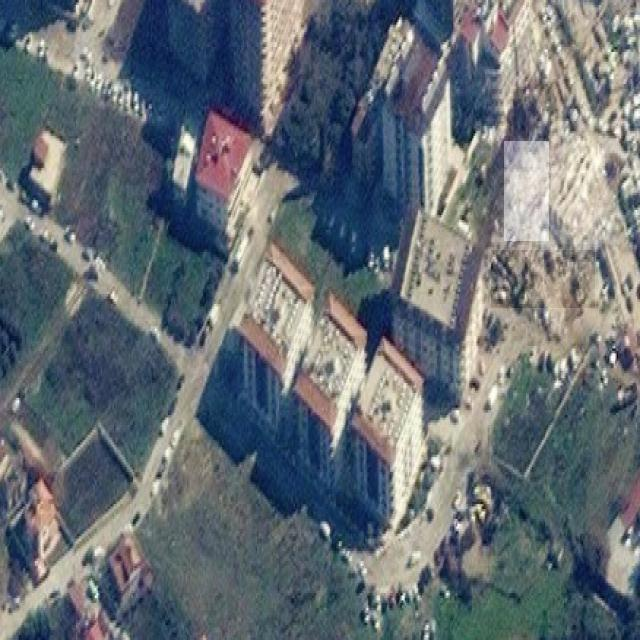Rubble: (549, 132, 619, 244), (492, 250, 596, 308), (504, 142, 549, 242)
